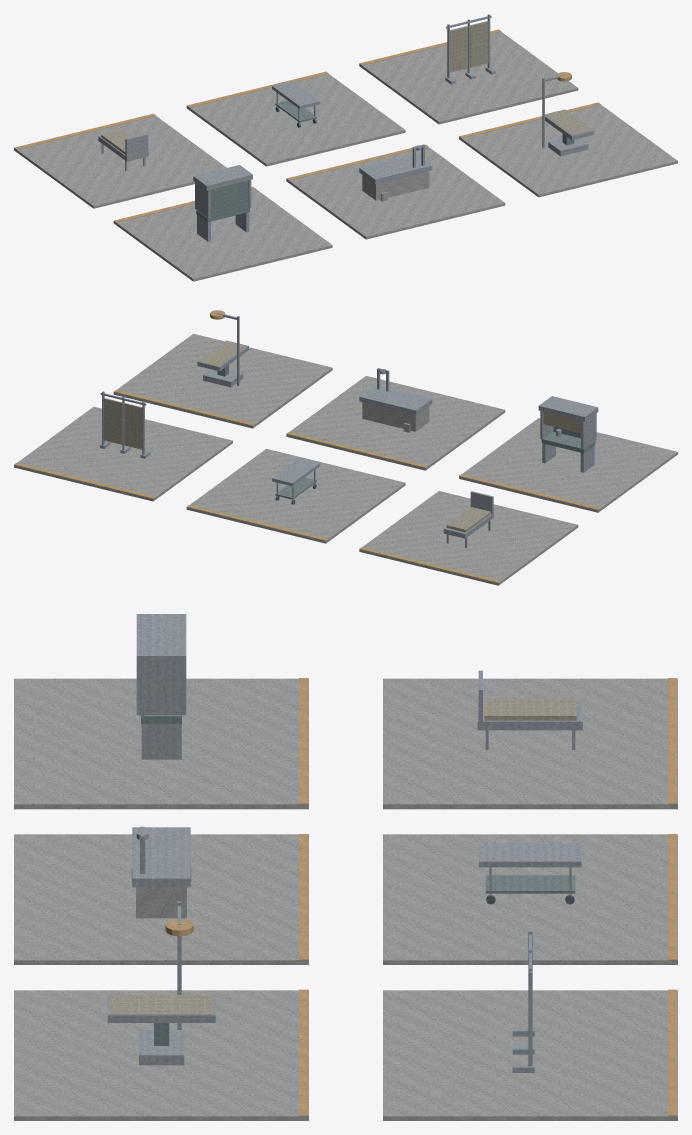
The model's file is level_blockout_kit_asylum_p01.glb.
3 renders of one model, top to bottom at view 1: azimuth 30°, elevation 25°; view 2: azimuth 150°, elevation 25°; view 3: azimuth 270°, elevation 25°, orthographic. The views are drawn at different scales.
Visible parts, largest first — view 1: level_blockout_kit_asylum_p01; view 2: level_blockout_kit_asylum_p01; view 3: level_blockout_kit_asylum_p01.
Boxes of the visible parts, left/top/right/bottom form: level_blockout_kit_asylum_p01: left=14, top=14, right=677, bottom=281; level_blockout_kit_asylum_p01: left=14, top=310, right=677, bottom=585; level_blockout_kit_asylum_p01: left=14, top=614, right=677, bottom=1120.
Size of the model in its own units: 19.65 by 2.89 by 12.6.
6 materials, 6 textured.
